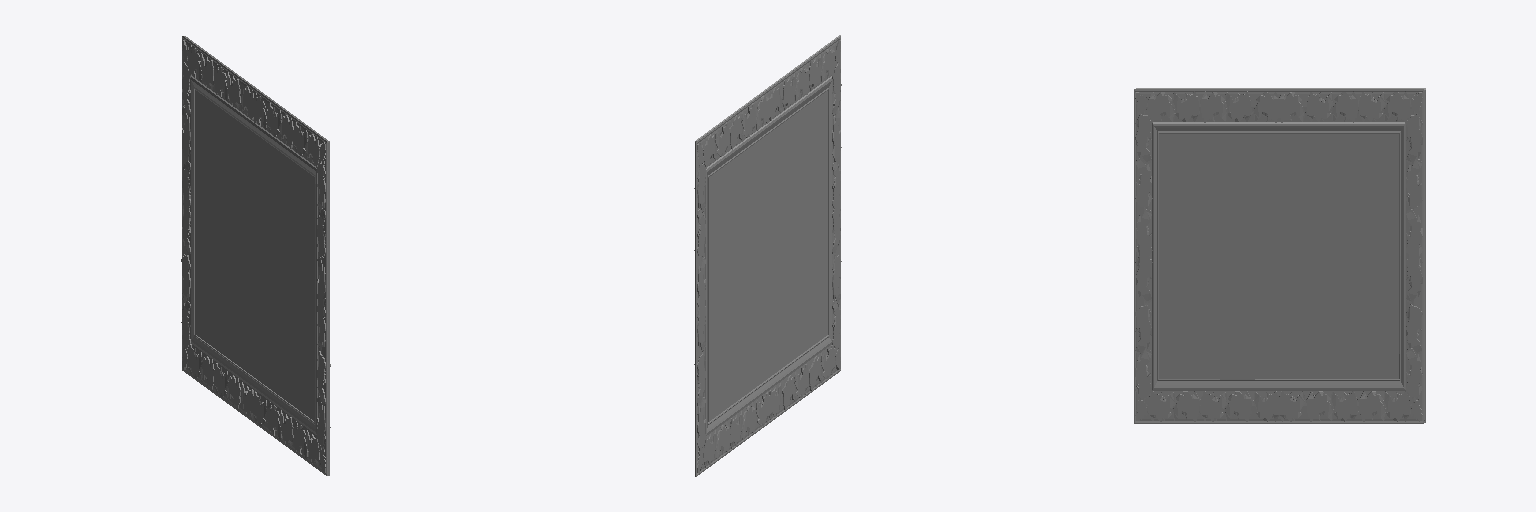
File: BabushkaPortrait.obj
3 views of the same model, side by side, from view 1: azimuth 30°, elevation 25°; view 2: azimuth 150°, elevation 25°; view 3: azimuth 270°, elevation 25° (orthographic).
Visible parts, largest first — view 1: Babushka (1), Masterpiece, Masterpiece (1); view 2: Babushka (1), Masterpiece, Masterpiece (1); view 3: Babushka, Masterpiece (1), Masterpiece.
Boxes of the visible parts, x1,y1,x2,y2 form: Babushka (1): [195, 90, 314, 421]; Masterpiece: [181, 36, 327, 475]; Masterpiece (1): [184, 36, 330, 475]; Babushka (1): [709, 91, 827, 421]; Masterpiece: [695, 36, 841, 476]; Masterpiece (1): [694, 35, 840, 421]; Babushka: [1159, 134, 1398, 378]; Masterpiece (1): [1134, 89, 1423, 423]; Masterpiece: [1136, 88, 1425, 422].
Bounding box in the file's own units: 0.252 × 18.03 × 14.24.